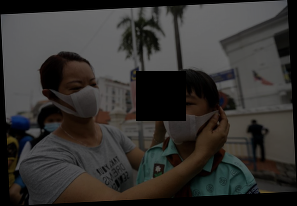with_mask: (161, 92, 208, 145), (60, 76, 102, 119)
